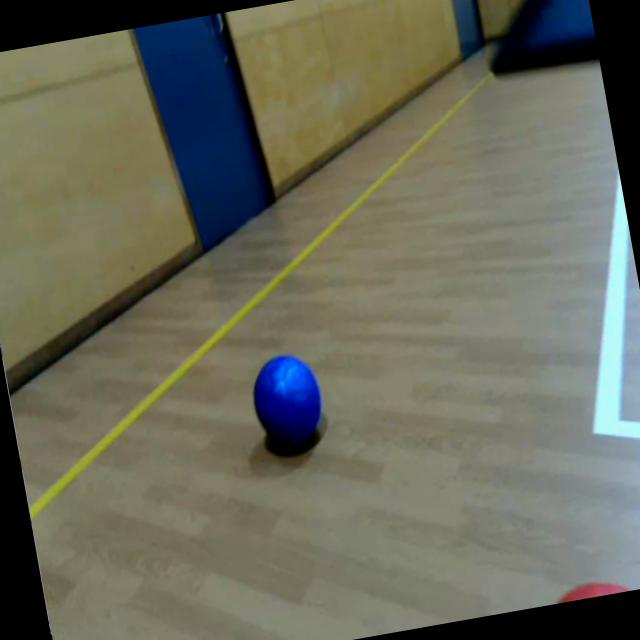blue_ball: (246, 348, 328, 451)
